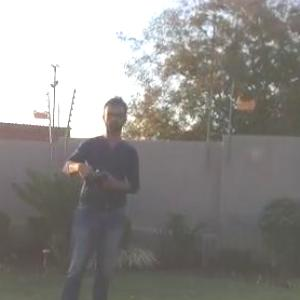follow: (54, 87, 147, 299)
